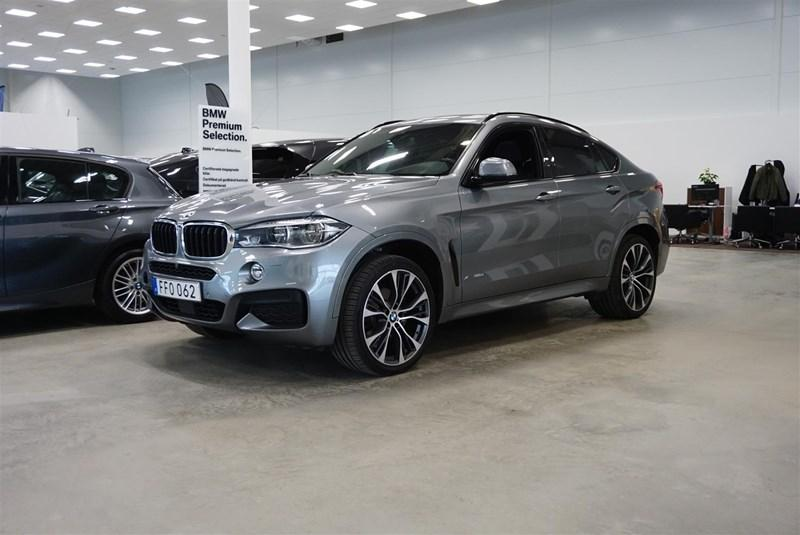license-plates: (152, 276, 201, 302)
